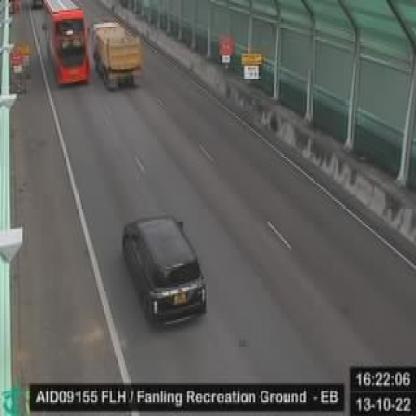Bus: (43, 0, 89, 86)
Car: (124, 216, 209, 326)
Truck: (92, 21, 141, 88)
